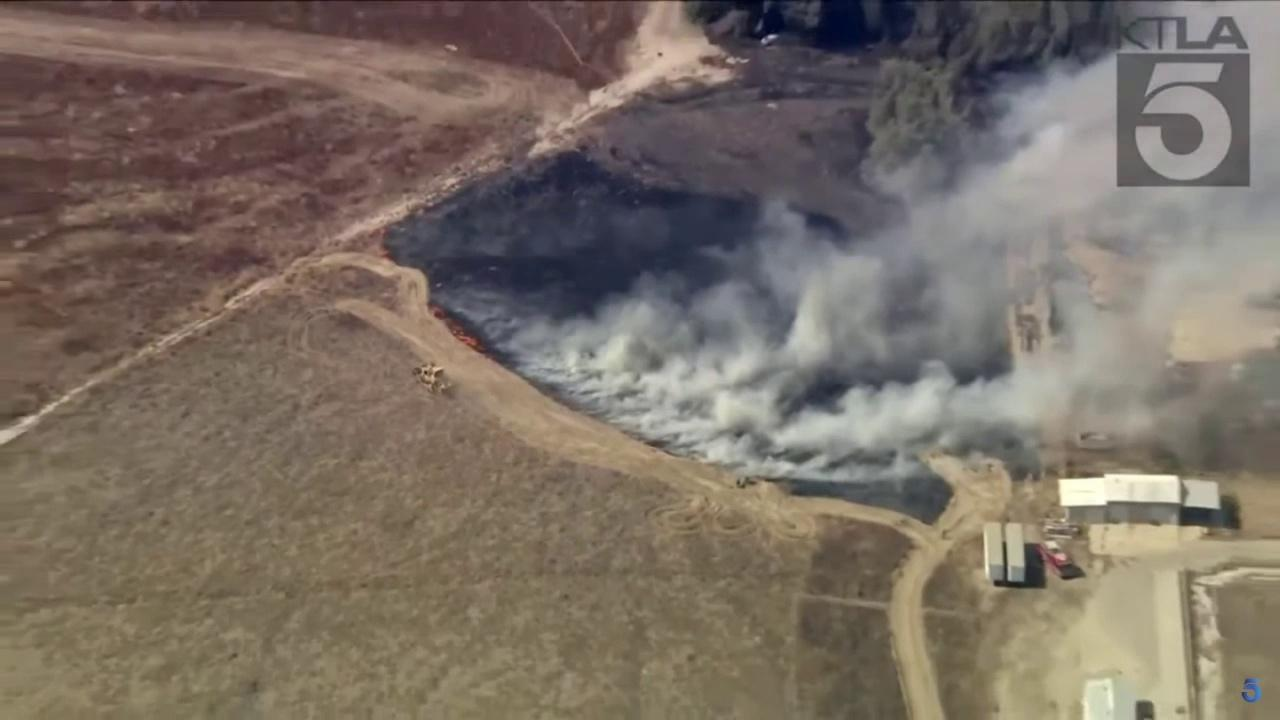fire: (448, 323, 479, 348), (425, 303, 447, 319)
smoke: (483, 0, 1280, 485)
